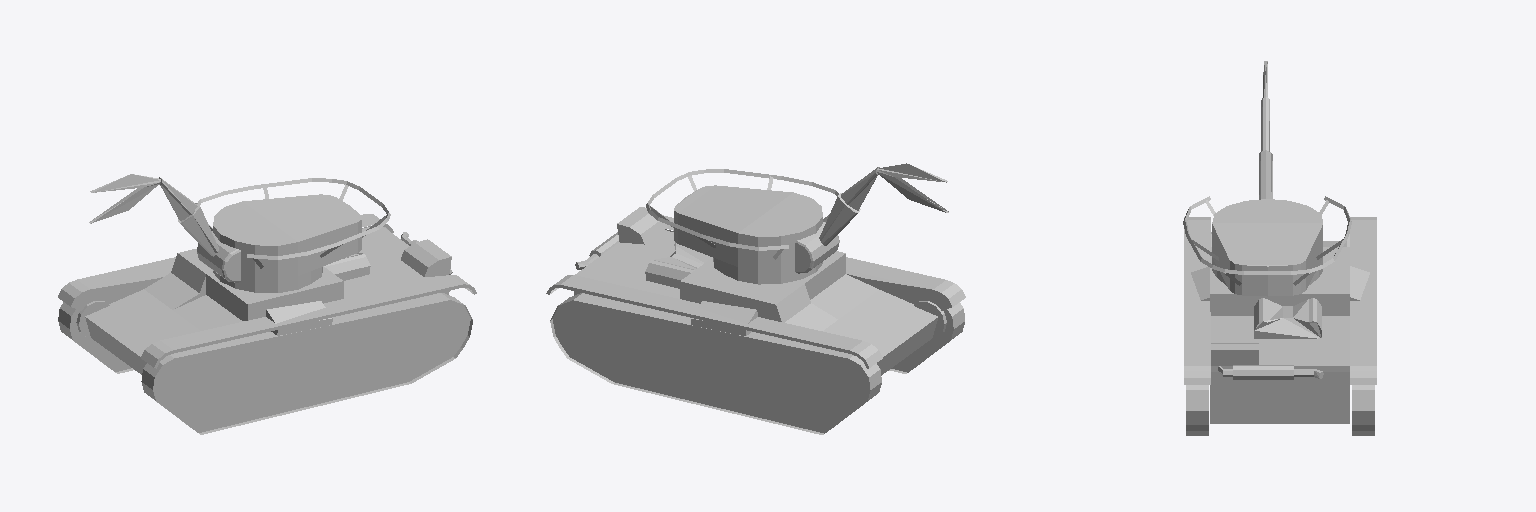
File: agent.obj
3 renders of one model, left to right at view 1: azimuth 30°, elevation 25°; view 2: azimuth 150°, elevation 25°; view 3: azimuth 270°, elevation 25°, orthographic.
Parts seen in each view (by area): view 1: agent; view 2: agent; view 3: agent.
Part boxes in pixels (x1,y1,x2,y2): agent: (58,174,476,434); agent: (546,163,965,434); agent: (1183,61,1376,435).
Bounding box in the file's own units: 4.53 × 2.99 × 2.2.